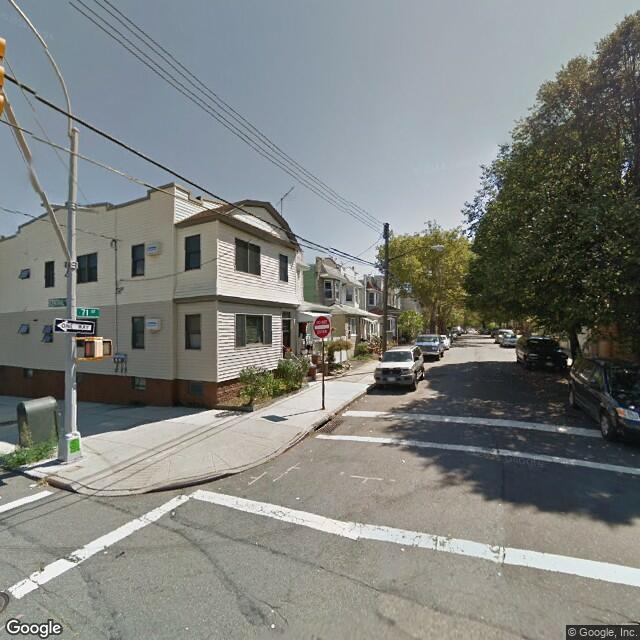litter: (29, 479, 50, 489)
